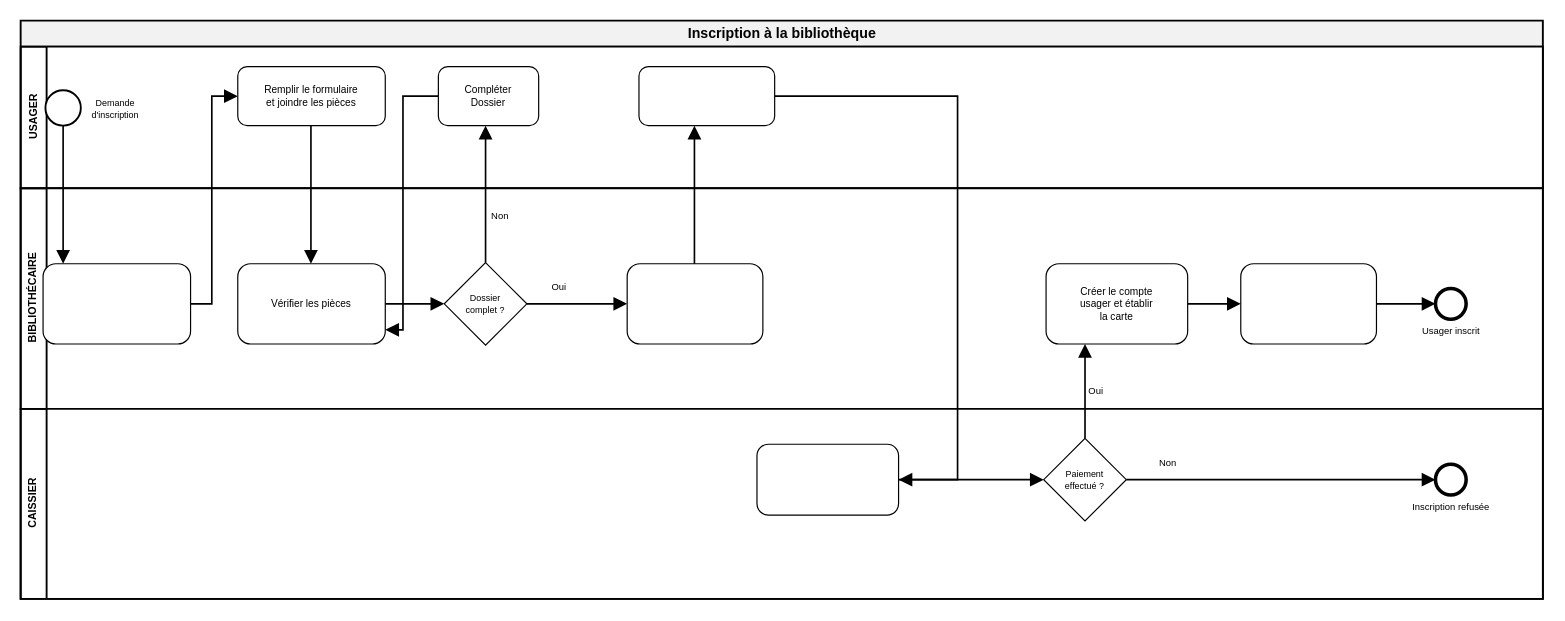
This 1565x621 diagram has some shape labels left out. The centre of each missing label's shape, as x and y in pixels:
"Accueillir et remettre le formulaire" goes at [116,303].
"Aller payer à la caisse" goes at [706,95].
"Encaisser les frais et délivrer le reçu" goes at [827,479].
"Remettre la carte à l'usager" goes at [1308,303].
"Saisir les données dans le registre" goes at [694,303].
